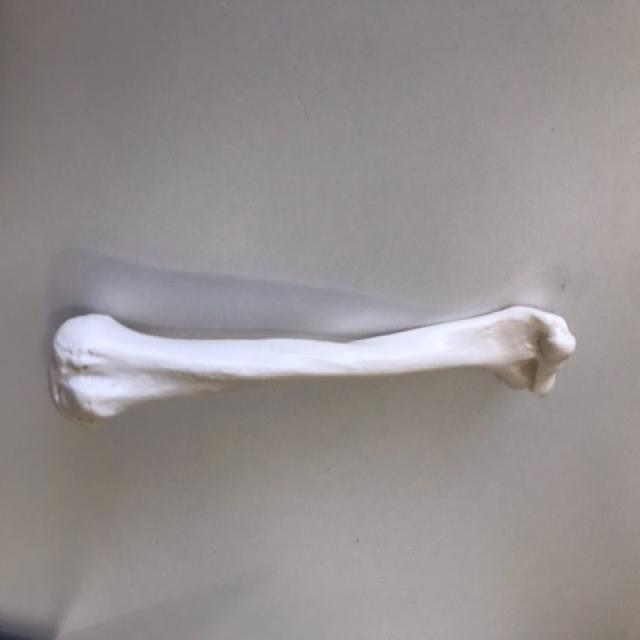bone: (49, 302, 578, 432)
